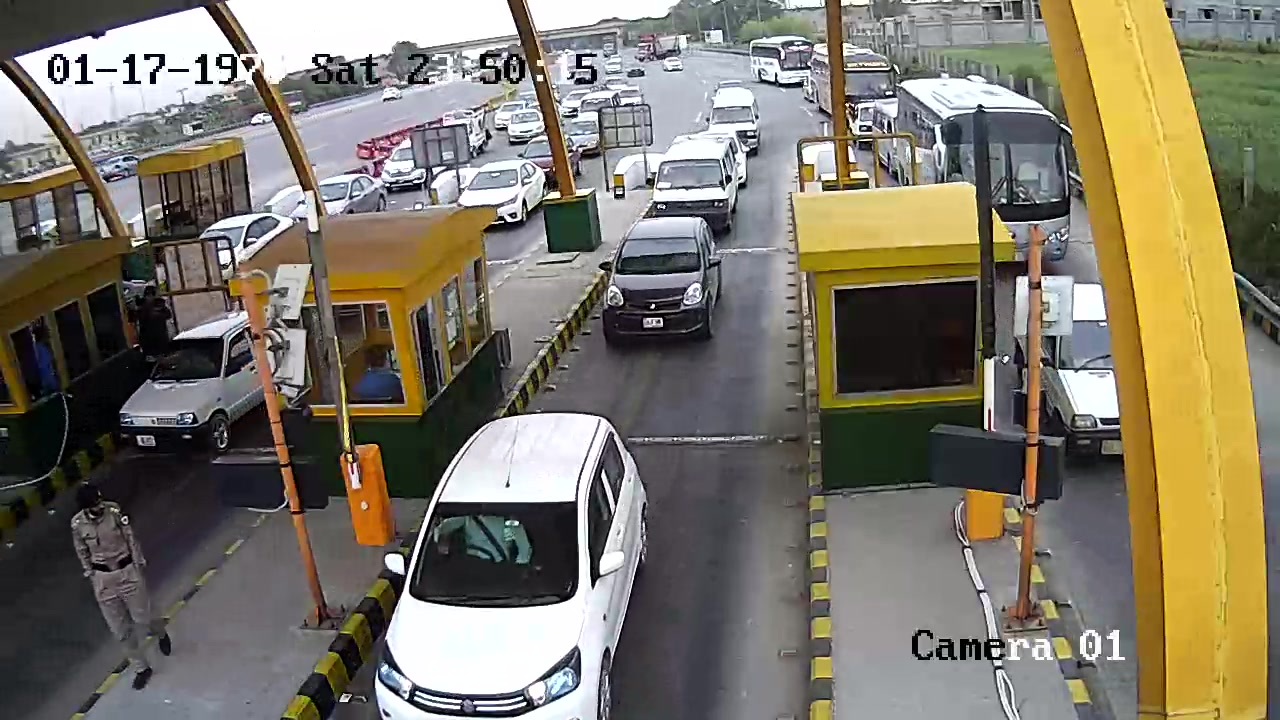F1: (593, 209, 723, 356)
